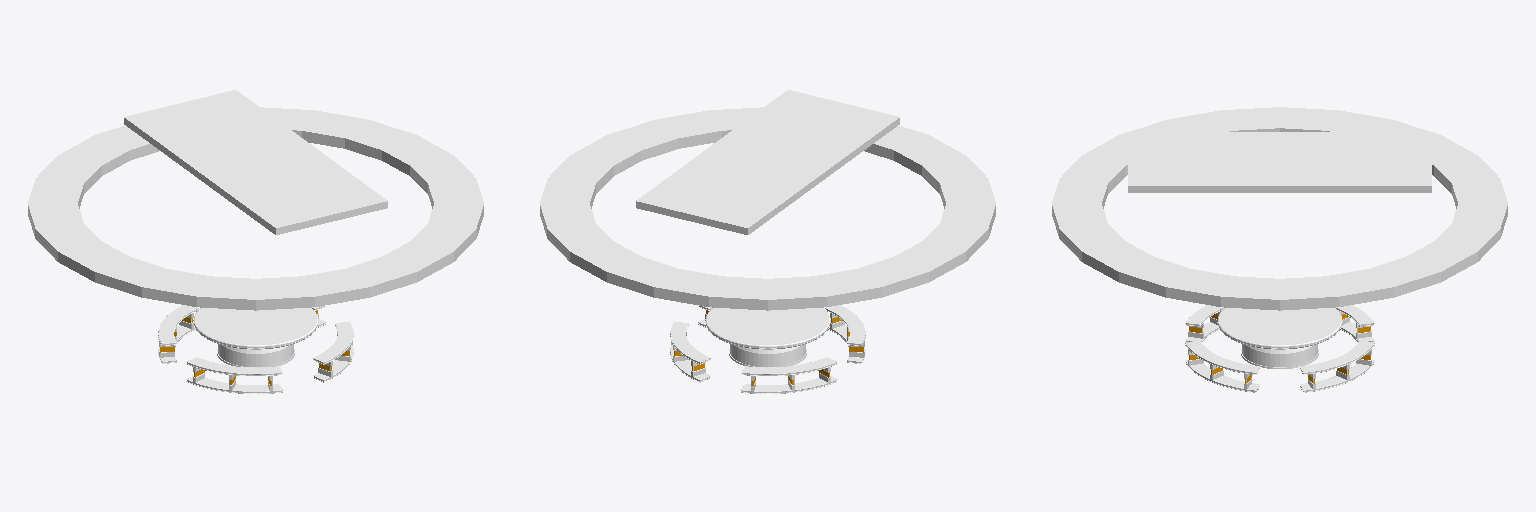
The model's file is Sci Fi Table.obj.
The picture shows the model from 3 angles: view 1: azimuth 30°, elevation 25°; view 2: azimuth 150°, elevation 25°; view 3: azimuth 270°, elevation 25°; orthographic projection.
Visible parts, largest first — view 1: Tube, Cube, Table, Seats; view 2: Tube, Cube, Table, Seats; view 3: Tube, Cube, Table, Seats.
Part boxes in pixels (left/top/right/bottom): Tube: left=28, top=107, right=483, bottom=310; Cube: left=124, top=90, right=387, bottom=234; Table: left=193, top=308, right=318, bottom=367; Seats: left=158, top=305, right=353, bottom=393; Tube: left=540, top=107, right=995, bottom=310; Cube: left=636, top=90, right=899, bottom=234; Table: left=705, top=308, right=830, bottom=367; Seats: left=670, top=305, right=865, bottom=393; Tube: left=1052, top=107, right=1507, bottom=310; Cube: left=1128, top=132, right=1431, bottom=192; Table: left=1217, top=308, right=1342, bottom=368; Seats: left=1185, top=305, right=1374, bottom=392.
Size of the model in its own units: 3844 by 1801 by 3844.